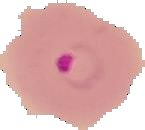parasitized: (52, 38, 114, 97)
